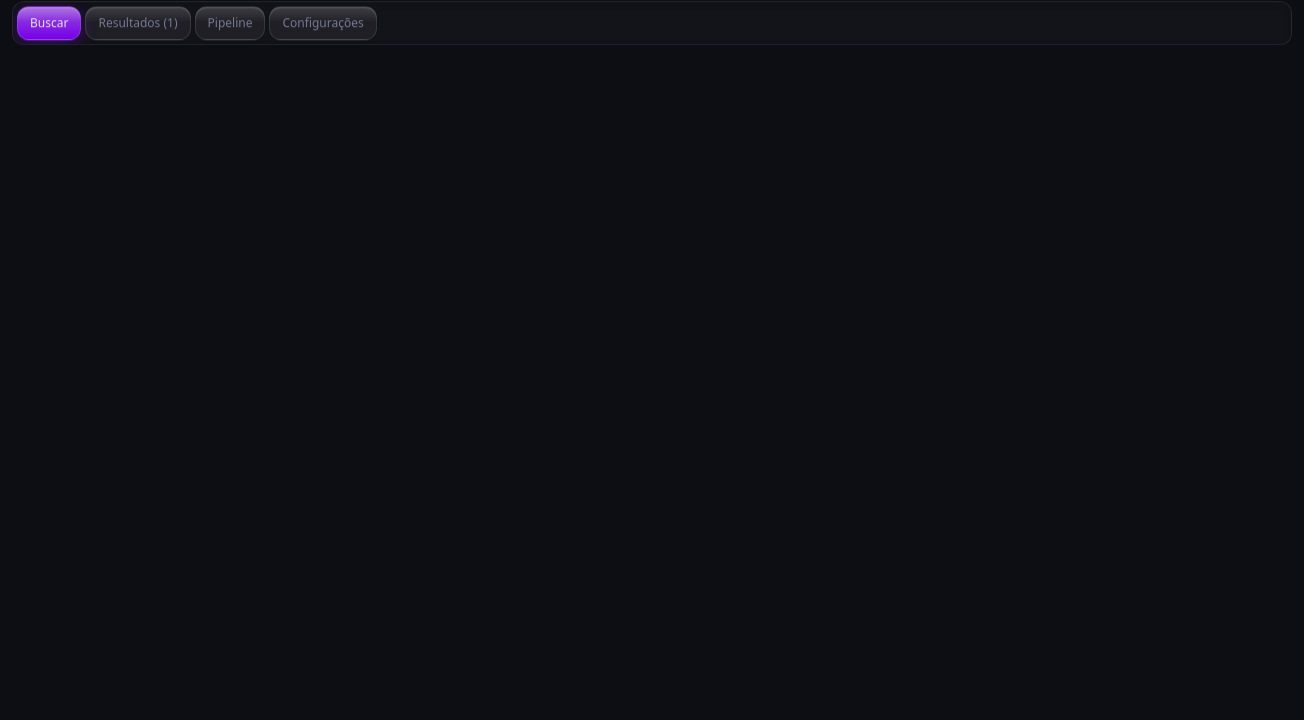
Scenario: Prospecção de leads › abre Resultados mesmo com um lead legado incompleto
Click the tab "Resultados (1)" at (138, 23), box [85,6,190,40]
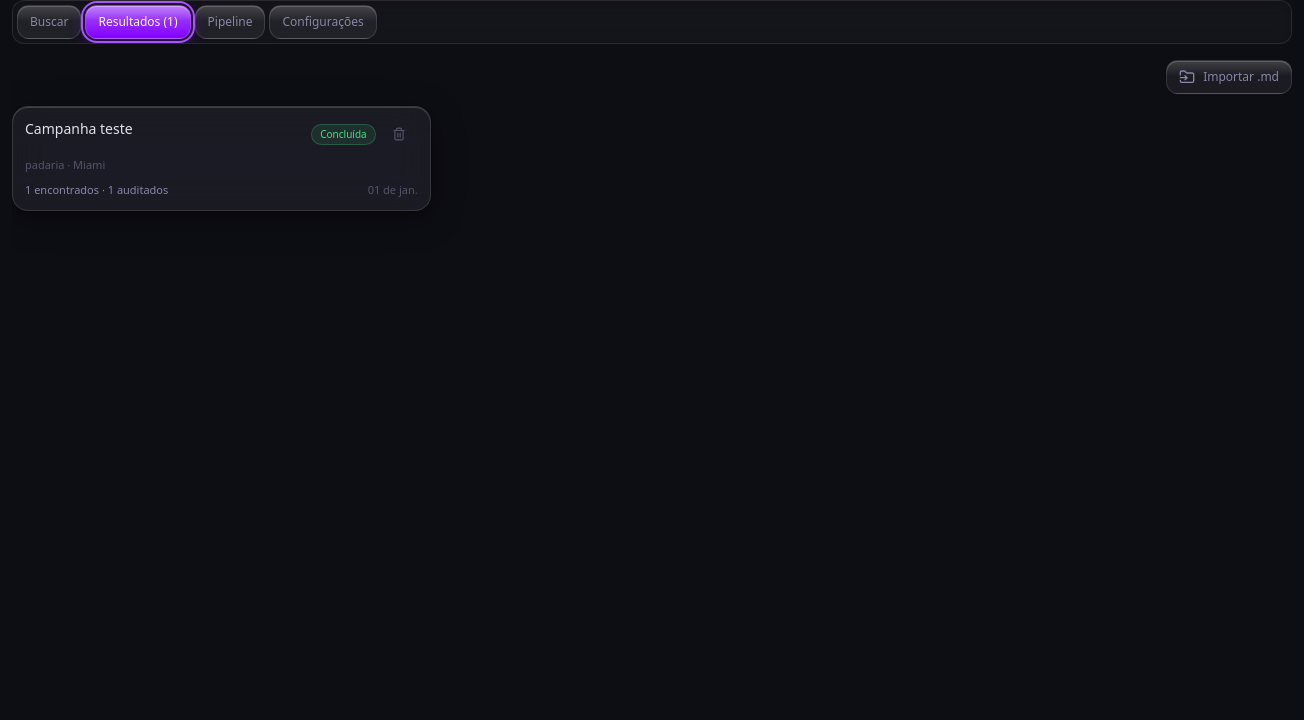
Click the heading "Campanha teste" at (79, 129), box [25,119,133,139]
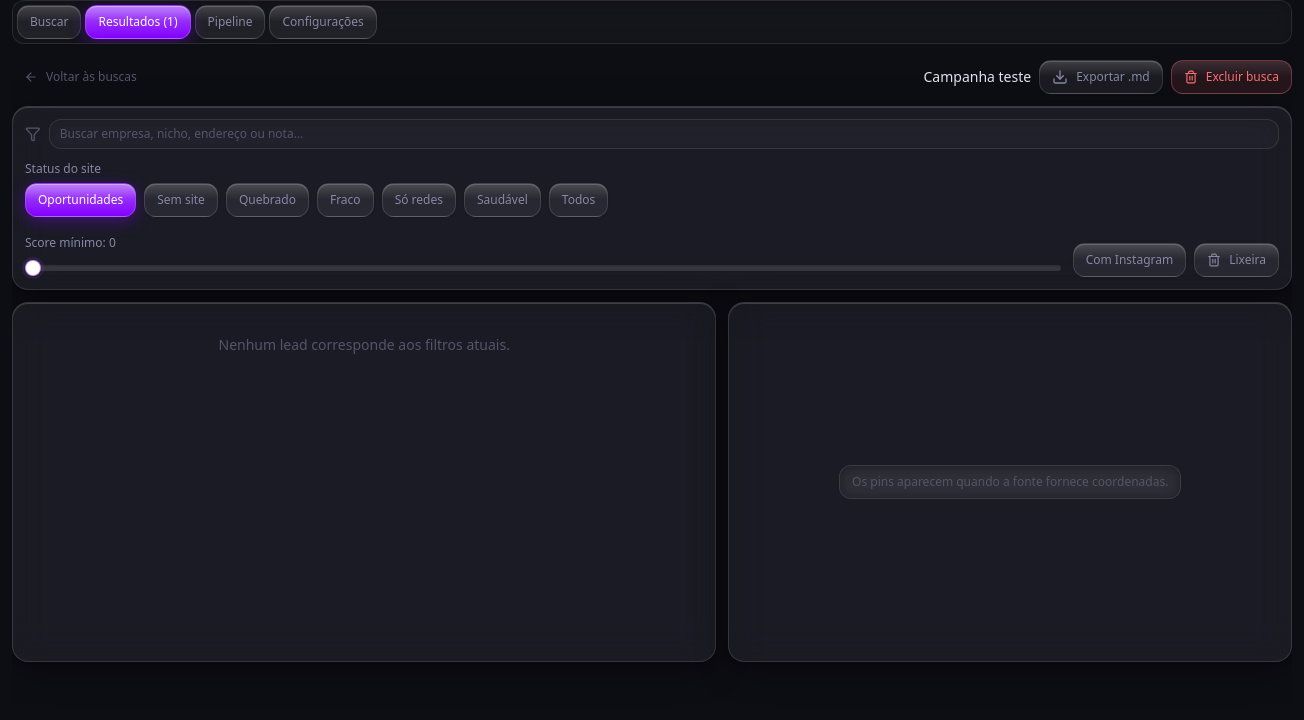
Click the button "Todos" at (579, 200), box [549,183,608,217]
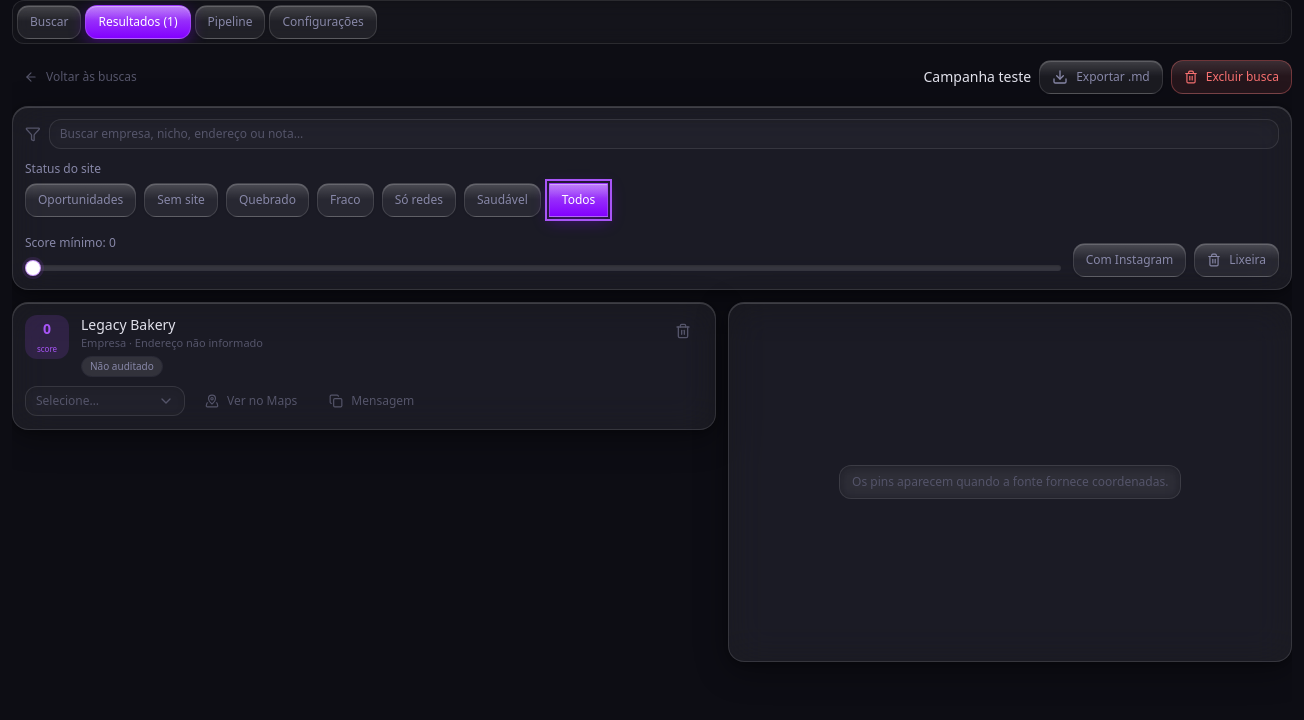
Expected: the heading "Legacy Bakery" is shown, [81,315,176,334]
Expected: the text "Não auditado" is shown, [81,356,163,376]
